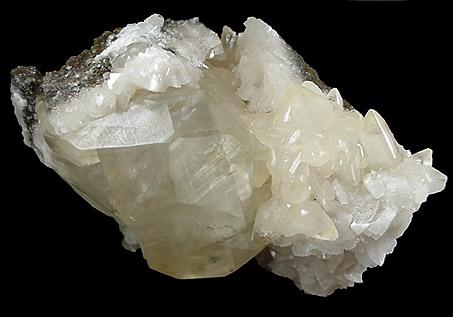calcite: (14, 16, 448, 296)
